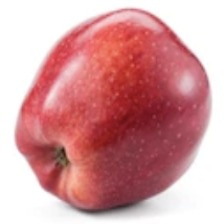apple: (16, 19, 203, 205)
